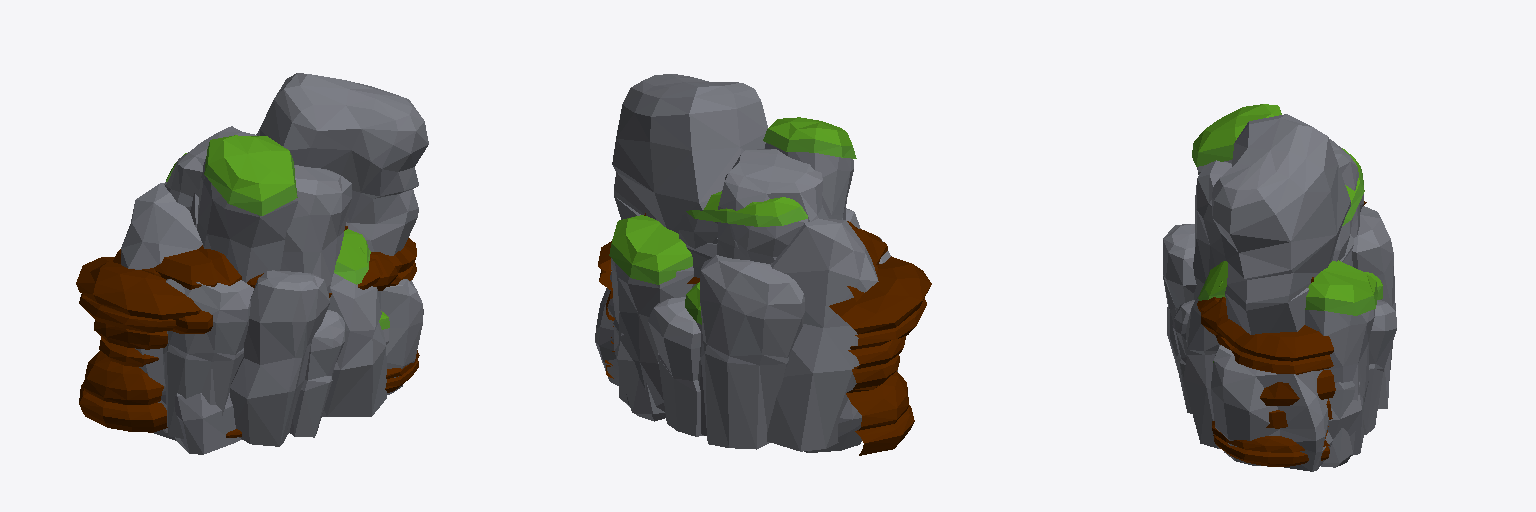
File: mountains.obj
3 views of the same model, side by side, from view 1: azimuth 30°, elevation 25°; view 2: azimuth 150°, elevation 25°; view 3: azimuth 270°, elevation 25° (orthographic).
Parts seen in each view (by area): view 1: mountain2_Circle.001, m10quad, mountain1_Circle, m1double, m4double, m8double; view 2: mountain2_Circle.001, m10quad, mountain1_Circle, m1double; view 3: mountain2_Circle.001, m10quad, mountain1_Circle, m4double.
Boxes of the visible parts, x1=… form: mountain2_Circle.001: x1=121, y1=73, x2=428, y2=446; m10quad: x1=76, y1=238, x2=419, y2=432; mountain1_Circle: x1=154, y1=153, x2=389, y2=454; m1double: x1=154, y1=226, x2=347, y2=289; m4double: x1=170, y1=252, x2=397, y2=437; m8double: x1=198, y1=245, x2=241, y2=285; mountain2_Circle.001: x1=595, y1=74, x2=890, y2=451; m10quad: x1=598, y1=241, x2=931, y2=455; mountain1_Circle: x1=613, y1=191, x2=897, y2=452; m1double: x1=644, y1=213, x2=887, y2=265; mountain2_Circle.001: x1=1163, y1=104, x2=1396, y2=471; m10quad: x1=1197, y1=201, x2=1366, y2=466; mountain1_Circle: x1=1213, y1=148, x2=1382, y2=455; m4double: x1=1201, y1=297, x2=1226, y2=337.
Size of the model in its own units: 15.67 by 15.16 by 10.04.